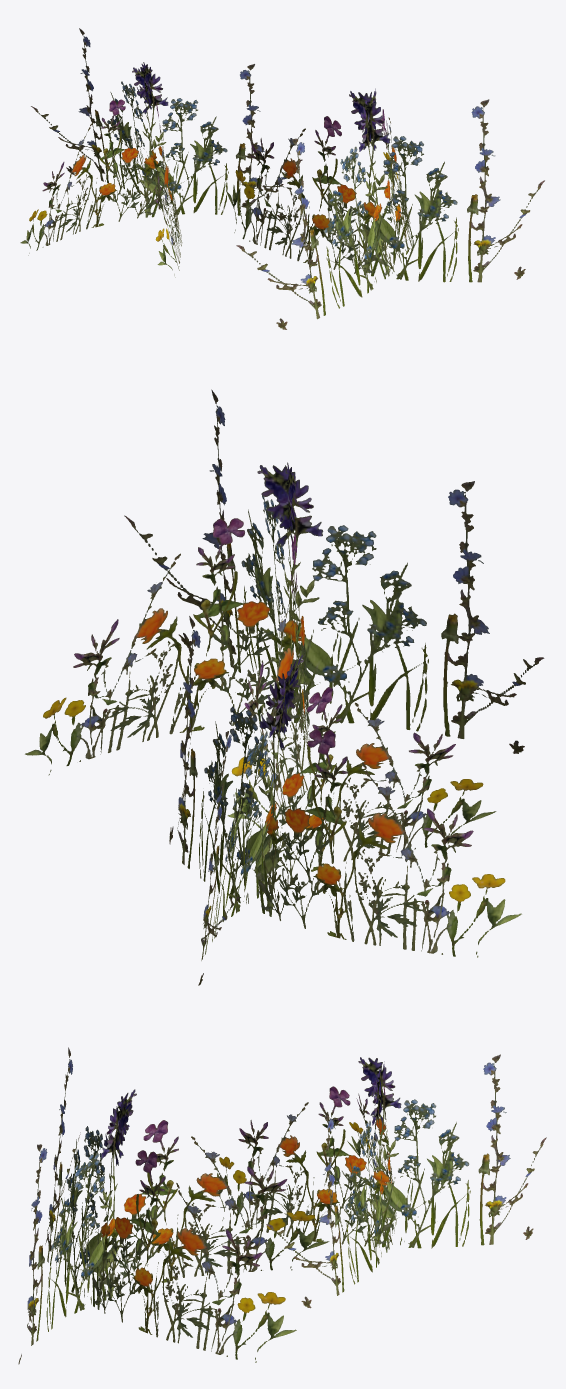
The model's file is SM_Grass_Flowers01.fbx.
The picture shows the model from 3 angles, top to bottom: view 1: azimuth 30°, elevation 25°; view 2: azimuth 150°, elevation 25°; view 3: azimuth 270°, elevation 25°; orthographic projection. The views are drawn at different scales.
Visible parts, largest first — view 1: Grass_Flowers01_LOD0; view 2: Grass_Flowers01_LOD0; view 3: Grass_Flowers01_LOD0.
Part boxes in pixels (x1,y1,x2,y2): Grass_Flowers01_LOD0: [20, 28, 544, 329]; Grass_Flowers01_LOD0: [25, 389, 544, 985]; Grass_Flowers01_LOD0: [18, 1047, 546, 1364].
Size of what is drawn, in the model's own units: 254 by 257 by 121.
